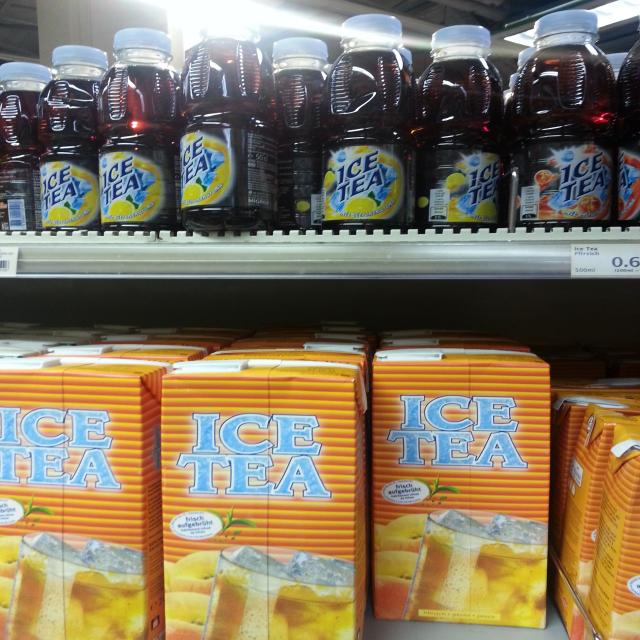IceTea: (160, 362, 362, 640), (371, 348, 550, 633), (0, 358, 162, 640), (514, 9, 614, 226), (316, 14, 413, 229), (174, 27, 276, 230), (415, 23, 506, 228), (100, 26, 174, 232), (42, 44, 112, 229), (266, 36, 328, 227), (0, 52, 52, 242)
